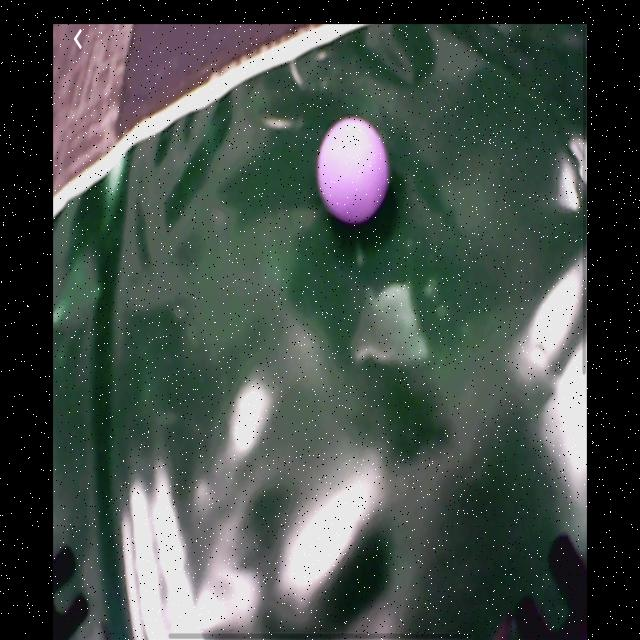ball: (320, 116, 389, 226)
